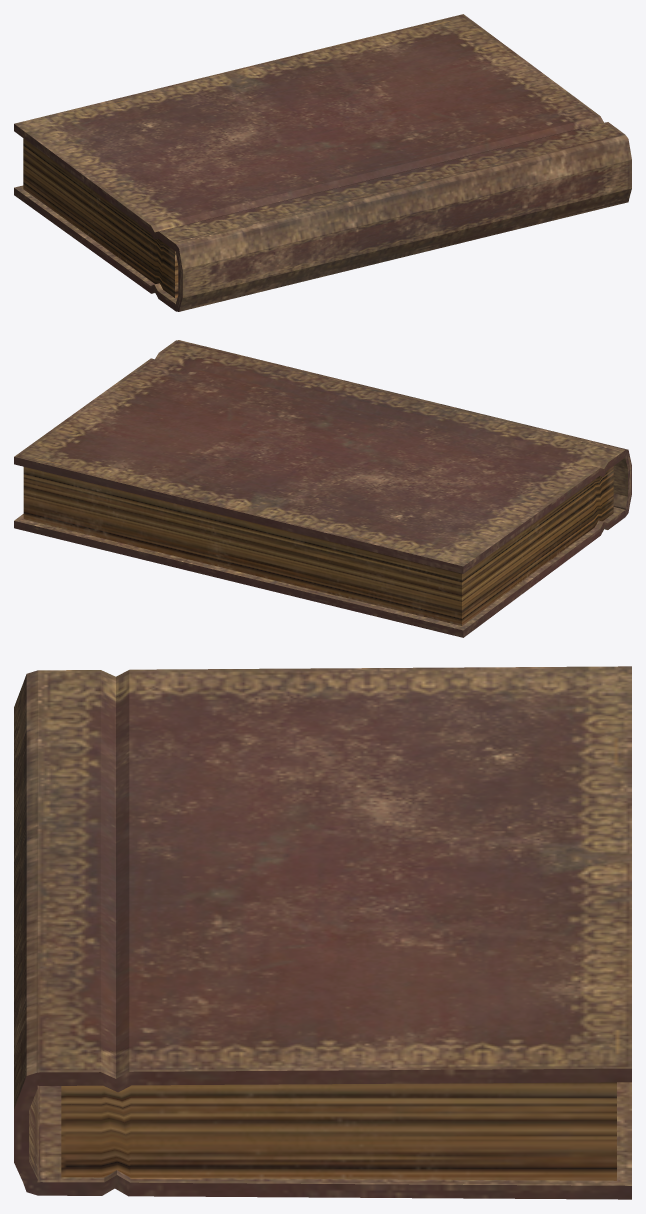
Rendered from Book01.fbx.
3 renders of one model, top to bottom at view 1: azimuth 30°, elevation 25°; view 2: azimuth 150°, elevation 25°; view 3: azimuth 270°, elevation 25°, orthographic. The views are drawn at different scales.
Parts seen in each view (by area): view 1: Book01; view 2: Book01; view 3: Book01.
Part boxes in pixels (x1,y1,x2,y2): Book01: (14, 14, 631, 311); Book01: (14, 340, 631, 637); Book01: (14, 666, 631, 1199).
Size of the model in its own units: 59.15 by 8.98 by 38.41.
